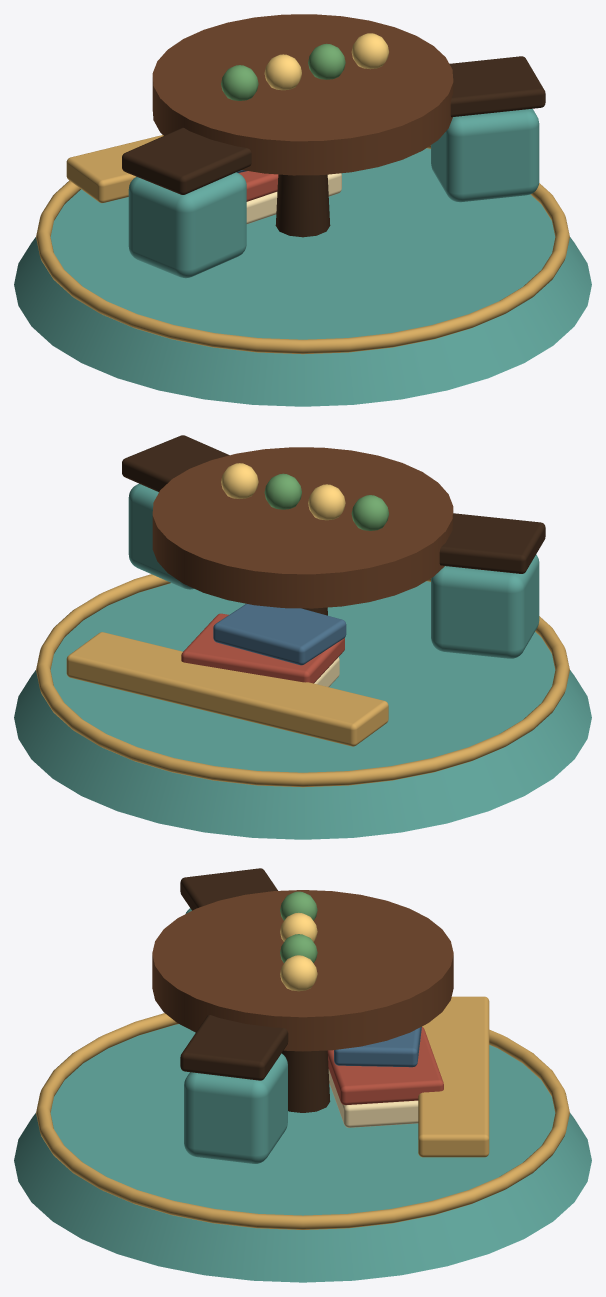
Rendered from dialogue-table.glb.
3 renders of one model, top to bottom at view 1: azimuth 30°, elevation 25°; view 2: azimuth 150°, elevation 25°; view 3: azimuth 270°, elevation 25°, orthographic.
Parts seen in each view (by area): view 1: asset-plinth, round-table, dialogue-chair (×2), plinth-rim, chair-back (×2), four-step-token (×4), table-leg, connection-bridge, book-pages, book-cover; view 2: asset-plinth, round-table, connection-bridge, plinth-rim, dialogue-chair (×2), chair-back (×2), book-cover-small, four-step-token (×4), book-cover; view 3: asset-plinth, round-table, plinth-rim, connection-bridge, dialogue-chair, chair-back (×2), book-cover, four-step-token (×4), table-leg, book-cover-small, book-pages.
Part boxes in pixels (x1,y1,x2,y2): asset-plinth: (14, 148, 591, 406); round-table: (152, 14, 453, 175); dialogue-chair (×2): (128, 108, 539, 278); plinth-rim: (36, 145, 569, 354); chair-back (×2): (122, 56, 545, 194); four-step-token (×4): (221, 33, 388, 100); table-leg: (275, 174, 330, 237); connection-bridge: (66, 135, 163, 203); book-pages: (246, 173, 341, 223); book-cover: (238, 171, 278, 201); asset-plinth: (14, 581, 591, 839); round-table: (152, 447, 453, 608); connection-bridge: (66, 632, 388, 746); plinth-rim: (36, 574, 569, 787); dialogue-chair (×2): (128, 483, 539, 658); chair-back (×2): (122, 435, 545, 573); book-cover-small: (213, 603, 346, 665); four-step-token (×4): (221, 463, 388, 530); book-cover: (181, 613, 344, 683); asset-plinth: (14, 1024, 591, 1282); round-table: (152, 890, 453, 1051); plinth-rim: (36, 1013, 569, 1229); connection-bridge: (418, 996, 489, 1157); dialogue-chair: (184, 1053, 287, 1163); chair-back (×2): (180, 868, 288, 1080); book-cover: (327, 1027, 443, 1105); four-step-token (×4): (280, 891, 317, 991); table-leg: (282, 1050, 330, 1112); book-cover-small: (334, 1026, 421, 1067); book-pages: (328, 1069, 418, 1127).
Bounding box in the file's own units: 2.76 × 1.24 × 2.76.
